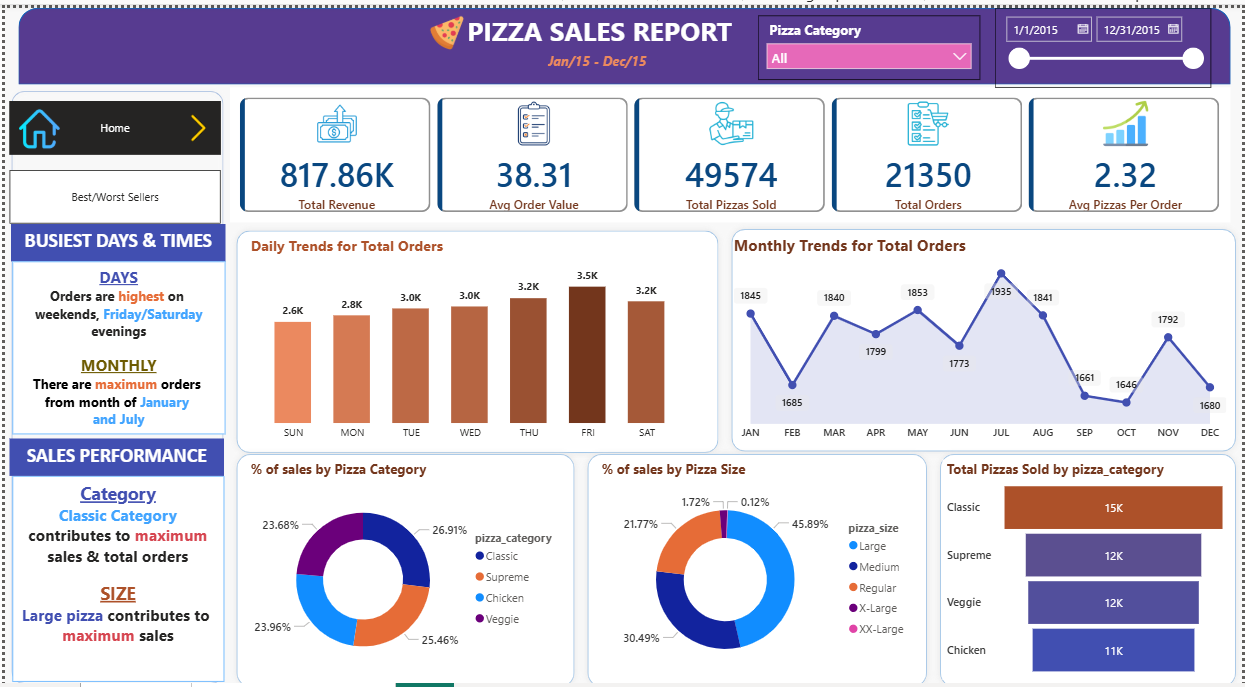

Layout of this report page (visuals, bound fields, positions):
{"tool":"powerbi","page":{"name":"Home","canvas":[1500,830],"ordinal":0},"visuals":[{"type":"shape","box":[0,92.7,272.7,734.5],"z":0},{"type":"cardVisual","fields":{"Data":["pizza_sales.Total Revenue","pizza_sales.Avg Order Value","pizza_sales.Total Pizzas Sold","pizza_sales.Total Orders","pizza_sales.Avg Pizzas Per Order"]},"box":[272.7,96.4,1212.7,163.6],"z":1000},{"type":"shape","box":[16.4,0,1469.1,92.7],"z":2000},{"type":"textbox","box":[512.7,0,416.4,56.4],"z":3000},{"type":"textbox","box":[652.7,47.3,136.4,49.1],"z":4000},{"type":"image","box":[500,9.1,70.9,41.8],"z":5000},{"type":"shape","box":[272.7,261.8,600,285.5],"z":6000},{"type":"columnChart","title":"Daily Trends for Total Orders","fields":{"Category":["pizza_sales.Order Day"],"Y":["pizza_sales.Total Orders"]},"box":[292.7,276.4,541.8,256.4],"z":7000},{"type":"shape","box":[872.7,260,627.3,285.5],"z":8000},{"type":"areaChart","title":"Monthly Trends for Total Orders","fields":{"Category":["pizza_sales.Order Month"],"Y":["pizza_sales.Total Orders"]},"box":[878.2,274.5,607.3,258.2],"z":9000},{"type":"shape","box":[272.7,532.7,425.5,298.2],"z":10000},{"type":"shape","box":[1125.5,532.7,374.5,298.2],"z":11000},{"type":"shape","box":[698.2,532.7,427.3,298.2],"z":12000},{"type":"donutChart","title":"% of sales by Pizza Category","fields":{"Category":["pizza_sales.pizza_category"],"Y":["pizza_sales.Total Revenue"]},"box":[292.7,547.3,390.9,269.1],"z":13000},{"type":"donutChart","title":"% of sales by Pizza Size","fields":{"Y":["pizza_sales.Total Revenue"],"Category":["pizza_sales.pizza_size"]},"box":[718.2,547.3,389.1,269.1],"z":14000},{"type":"funnel","fields":{"Category":["pizza_sales.pizza_category"],"Y":["pizza_sales.Total Pizzas Sold"]},"box":[1136.4,547.3,349.1,267.3],"z":15000},{"type":"textbox","box":[7.3,261.8,260,45.5],"z":16000},{"type":"textbox","box":[9.1,307.3,258.2,209.1],"z":17000},{"type":"textbox","box":[5.5,521.8,260,45.5],"z":18000},{"type":"textbox","box":[9.1,567.3,256.4,249.1],"z":19000},{"type":"slicer","fields":{"Values":["pizza_sales.pizza_category"]},"box":[912.7,9.1,269.1,78.2],"z":20000},{"type":"slicer","fields":{"Values":["pizza_sales.order_date"]},"box":[1200,0,261.8,96.4],"z":21000},{"type":"pageNavigator","title":"Home","box":[5.5,112.7,256.4,65.5],"z":22000},{"type":"pageNavigator","box":[5.5,196.4,256.4,65.5],"z":23000},{"type":"image","box":[205.5,129.1,58.2,32.7],"z":24000},{"type":"image","box":[16.4,121.8,50.9,49.1],"z":24001}]}

Visuals, with their boxes in screenshot pixels (x1, y1, x2, y2), scaled from the page's 1500x830 canvas onto the 1245x687 screenshot:
shape: [0,77,226,685]
cardVisual - pizza_sales.Total Revenue x pizza_sales.Avg Order Value: [226,80,1233,215]
shape: [14,0,1233,77]
textbox: [426,0,771,47]
textbox: [542,39,655,80]
image: [415,8,474,42]
shape: [226,217,724,453]
"Daily Trends for Total Orders" columnChart: [243,229,693,441]
shape: [724,215,1244,452]
"Monthly Trends for Total Orders" areaChart: [729,227,1233,441]
shape: [226,441,580,686]
shape: [934,441,1244,686]
shape: [580,441,934,686]
"% of sales by Pizza Category" donutChart: [243,453,567,676]
"% of sales by Pizza Size" donutChart: [596,453,919,676]
funnel - pizza_sales.pizza_category x pizza_sales.Total Pizzas Sold: [943,453,1233,674]
textbox: [6,217,222,254]
textbox: [8,254,222,427]
textbox: [5,432,220,470]
textbox: [8,470,220,676]
slicer - pizza_sales.pizza_category: [758,8,981,72]
slicer - pizza_sales.order_date: [996,0,1213,80]
"Home" pageNavigator: [5,93,217,147]
pageNavigator: [5,163,217,217]
image: [171,107,219,134]
image: [14,101,56,141]
